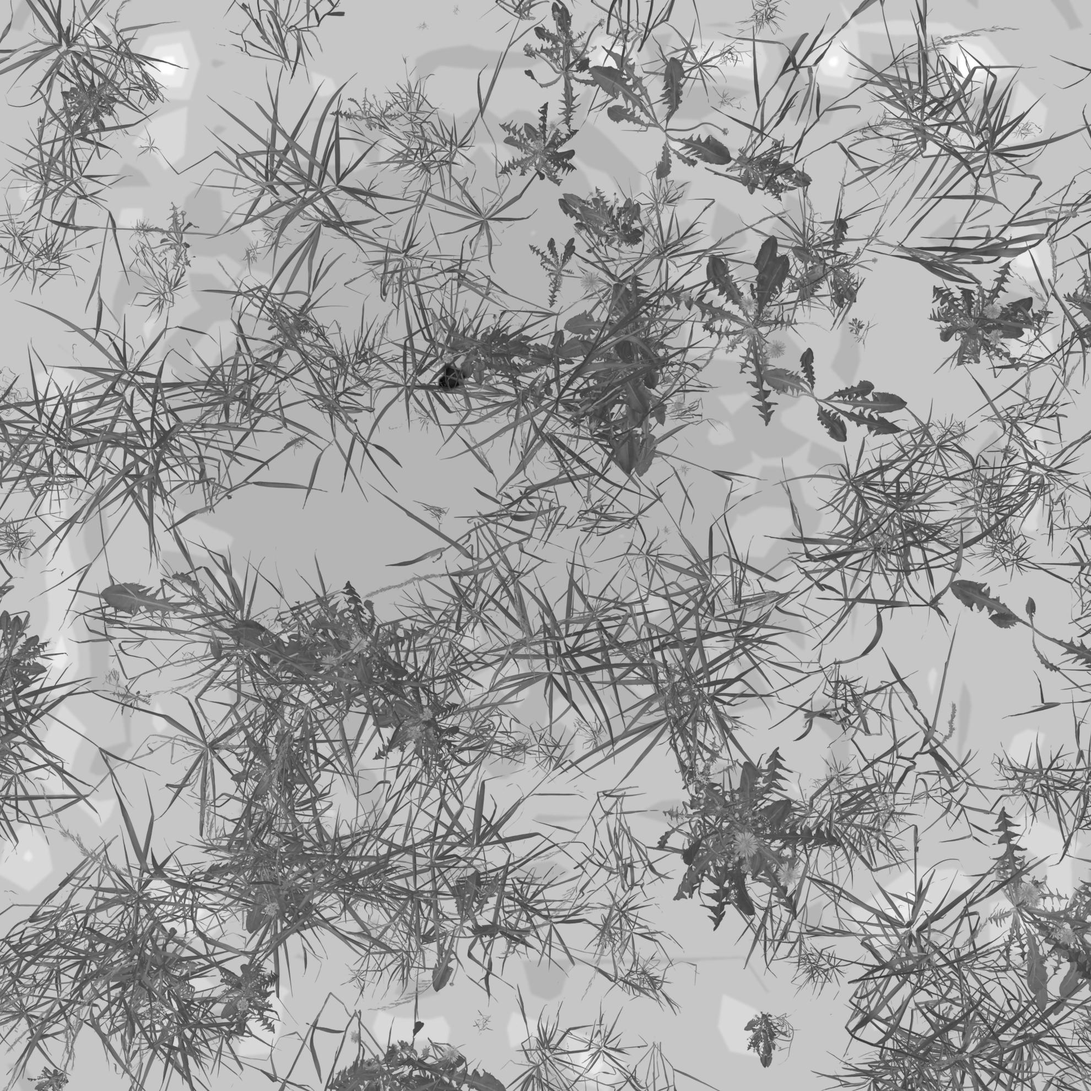landmine: (435, 340, 473, 392)
